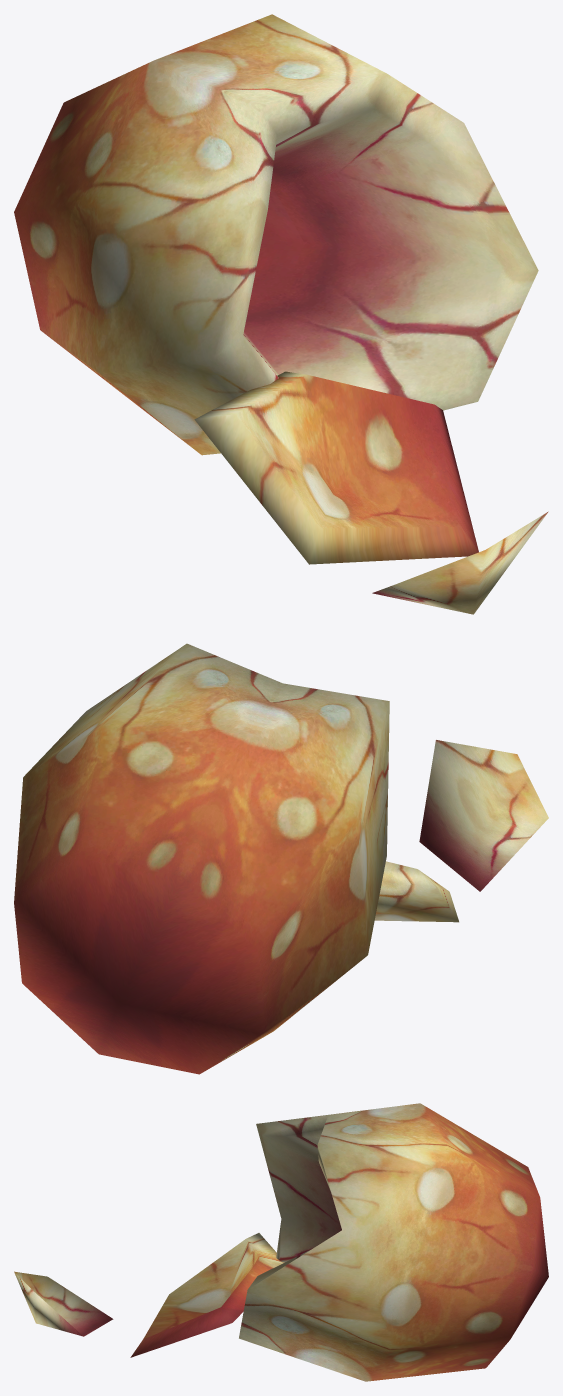
File: dragonegg01.obj
3 renders of one model, top to bottom at view 1: azimuth 30°, elevation 25°; view 2: azimuth 150°, elevation 25°; view 3: azimuth 270°, elevation 25°, orthographic. The views are drawn at different scales.
Visible parts, largest first — view 1: dragonegg01; view 2: dragonegg01; view 3: dragonegg01.
Boxes of the visible parts, left/top/right/bottom form: dragonegg01: left=14, top=14, right=548, bottom=614; dragonegg01: left=14, top=643, right=548, bottom=1074; dragonegg01: left=14, top=1103, right=548, bottom=1381.
Size of the model in its own units: 1.4 by 1.42 by 2.87.
Materials: 1 (1 with a texture image).
